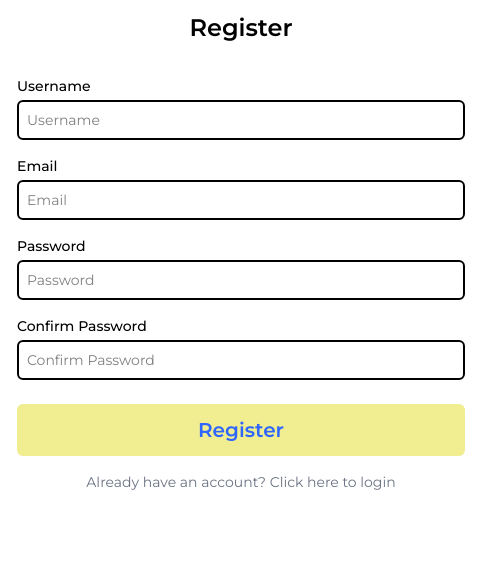
Scenario: RegisterView › should display error message if email is invalid
Type "invalid-email" into the field with placeholder "Email". click: (241, 200)
box: [17,180,465,220]
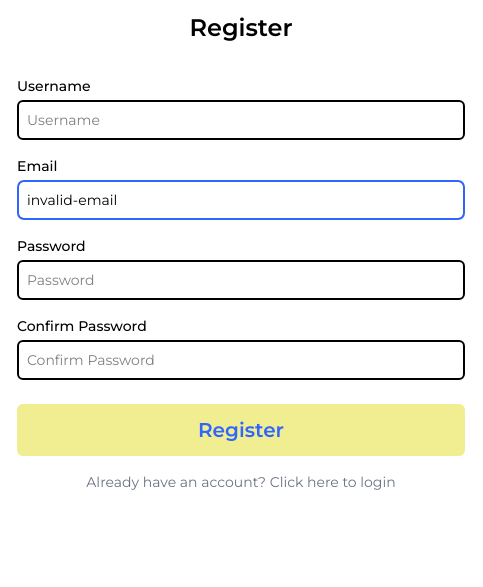
Click the button "Register". click: (241, 430)
box: [17,404,465,456]
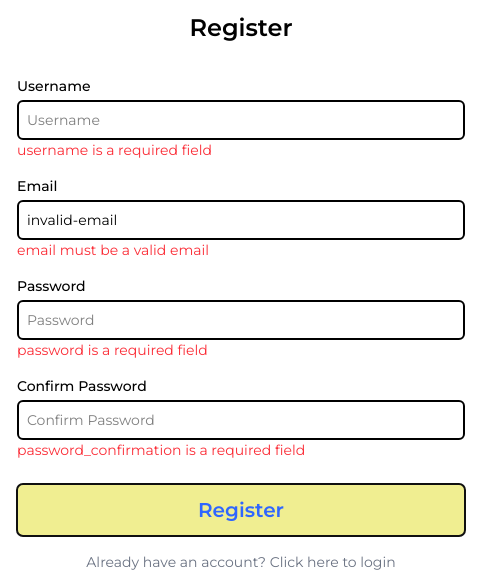
Now the text "email must be a valid email" is shown, box [17,241,209,259]
